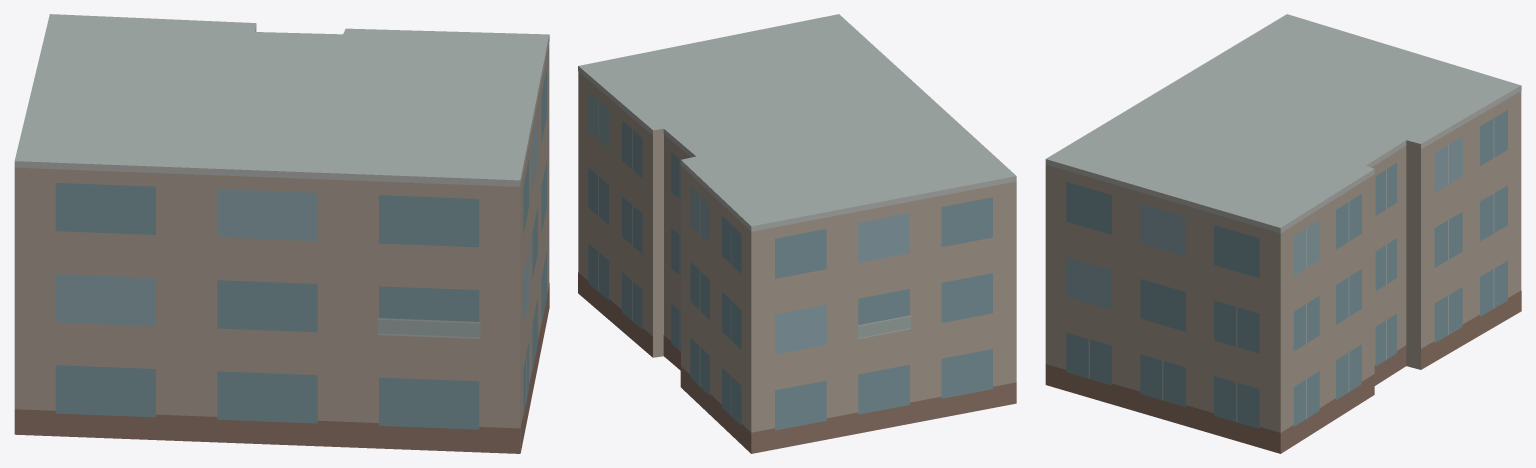
Rendered from survey-upis-32739316.glb.
The picture shows the model from 3 angles, left to right: view 1: azimuth 30°, elevation 25°; view 2: azimuth 150°, elevation 25°; view 3: azimuth 270°, elevation 25°; orthographic projection. The views are drawn at different scales.
Visible parts, largest first — view 1: survey-upis-32739316.tmp; view 2: survey-upis-32739316.tmp; view 3: survey-upis-32739316.tmp.
Boxes of the visible parts, bbox=[...] form: survey-upis-32739316.tmp: bbox=[14, 14, 549, 453]; survey-upis-32739316.tmp: bbox=[578, 14, 1016, 453]; survey-upis-32739316.tmp: bbox=[1045, 14, 1521, 453].
Size of the model in its own units: 20.83 by 10.25 by 19.58.
